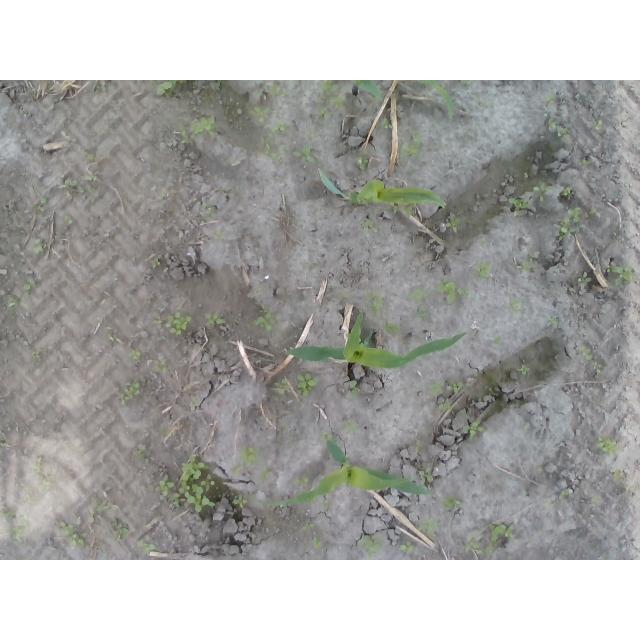Maize: (246, 440, 431, 511), (282, 309, 468, 371), (318, 167, 447, 210), (352, 80, 457, 114)
Weeds: (160, 453, 217, 513), (407, 278, 470, 306), (463, 523, 513, 558), (179, 106, 217, 146), (256, 119, 289, 165), (318, 81, 351, 124), (224, 98, 272, 127), (428, 380, 465, 417), (232, 448, 273, 481), (153, 312, 193, 342), (0, 511, 30, 545), (553, 207, 583, 241), (400, 126, 425, 161), (295, 366, 321, 398), (606, 264, 638, 289), (289, 143, 322, 166), (58, 521, 86, 548), (356, 533, 384, 560), (254, 304, 278, 335), (577, 345, 604, 371), (32, 462, 56, 491), (119, 377, 142, 407), (303, 519, 321, 553), (64, 175, 96, 194), (367, 288, 386, 320), (531, 177, 555, 202), (596, 436, 625, 456), (148, 80, 179, 98), (472, 260, 497, 281), (110, 520, 130, 544), (462, 420, 486, 440), (271, 378, 291, 401), (549, 119, 572, 137), (506, 298, 526, 318), (1, 295, 24, 312), (422, 515, 442, 534), (445, 212, 463, 233), (293, 471, 316, 487), (199, 202, 217, 222), (270, 80, 291, 97), (519, 255, 538, 273), (137, 539, 157, 556), (206, 312, 226, 329), (440, 496, 460, 513), (418, 462, 435, 482), (383, 320, 402, 337), (576, 271, 593, 289), (96, 498, 115, 514), (230, 494, 249, 510), (359, 219, 379, 234), (201, 95, 223, 108), (343, 419, 361, 434), (415, 307, 433, 322), (31, 239, 45, 258), (356, 153, 370, 172), (126, 350, 146, 362), (83, 149, 98, 164), (509, 198, 529, 209), (399, 542, 417, 554), (349, 380, 359, 401), (379, 115, 393, 130), (146, 256, 162, 269), (561, 185, 575, 199), (415, 439, 429, 453), (34, 199, 47, 214), (320, 500, 335, 513), (23, 279, 33, 298), (484, 384, 498, 397), (304, 259, 321, 269), (516, 364, 529, 377), (133, 447, 147, 459), (610, 468, 623, 480), (320, 432, 332, 445), (546, 316, 558, 329), (577, 158, 591, 169), (63, 215, 76, 226), (159, 360, 169, 374), (269, 520, 283, 530), (215, 487, 229, 497), (495, 336, 503, 353), (337, 292, 352, 301), (544, 95, 556, 106), (94, 85, 106, 95), (591, 495, 601, 505), (213, 232, 225, 240), (31, 350, 41, 359), (458, 80, 475, 85), (192, 399, 202, 407), (560, 490, 568, 498)
